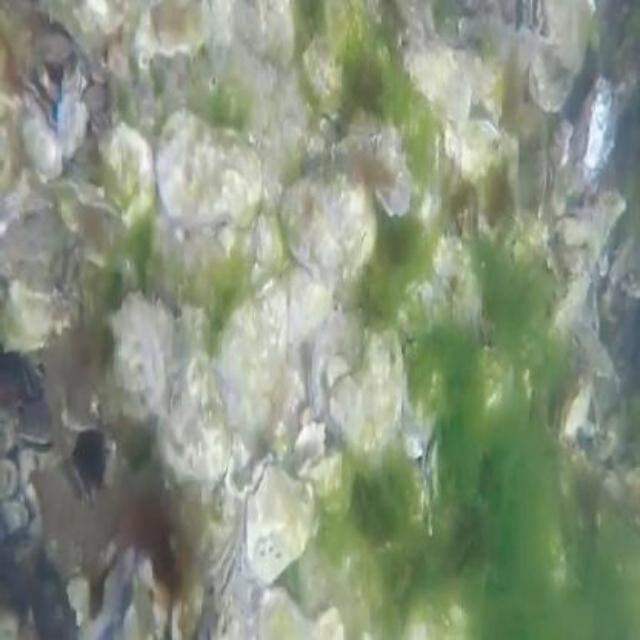Oyster-Closed: (158, 112, 263, 230), (279, 166, 376, 275), (210, 273, 287, 395), (159, 354, 232, 481), (242, 459, 314, 582), (114, 294, 175, 420), (0, 209, 83, 297), (308, 312, 366, 437), (401, 39, 471, 126), (99, 122, 155, 228), (0, 283, 80, 356), (136, 0, 233, 60), (332, 374, 401, 447), (253, 589, 343, 640), (229, 0, 295, 65), (544, 0, 595, 75), (446, 121, 502, 186), (302, 448, 344, 518), (527, 49, 574, 109), (20, 117, 61, 180), (518, 152, 554, 219), (171, 570, 205, 640), (364, 328, 403, 387), (21, 78, 59, 137), (562, 377, 590, 440), (551, 208, 593, 248), (422, 440, 439, 536), (544, 119, 574, 172), (373, 173, 408, 217), (217, 543, 239, 608), (431, 237, 465, 277), (346, 106, 379, 144), (609, 234, 635, 282), (71, 463, 90, 519), (63, 68, 86, 97), (603, 472, 625, 502)
Oyster-Open: (0, 488, 39, 538), (16, 426, 55, 459), (38, 62, 61, 102), (527, 0, 543, 28)
